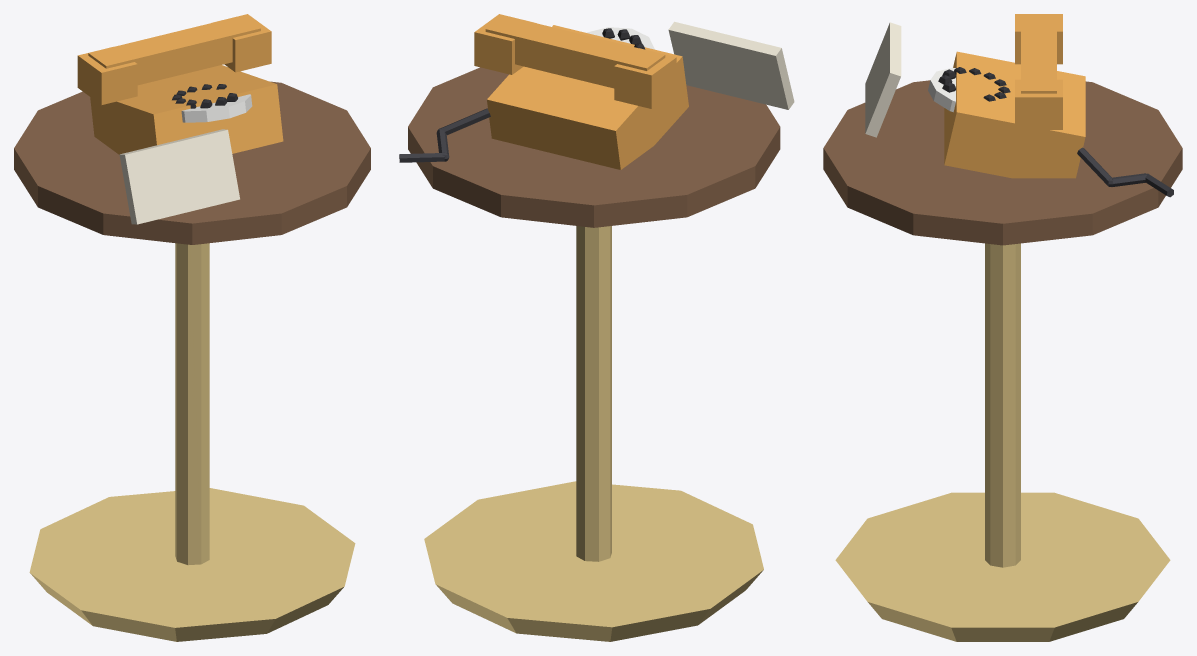
File: HJ_Telefono.fbx
3 views of the same model, side by side, from view 1: azimuth 30°, elevation 25°; view 2: azimuth 150°, elevation 25°; view 3: azimuth 270°, elevation 25° (orthographic). The views are drawn at different scales.
Parts seen in each view (by area): view 1: HJ_Telefono; view 2: HJ_Telefono; view 3: HJ_Telefono.
Boxes of the visible parts, box(x1,y1,x2,y2) form: HJ_Telefono: box(14, 14, 370, 641); HJ_Telefono: box(399, 14, 794, 641); HJ_Telefono: box(823, 14, 1182, 641).
Size of the model in its own units: 0.6 by 0.975 by 0.6.
